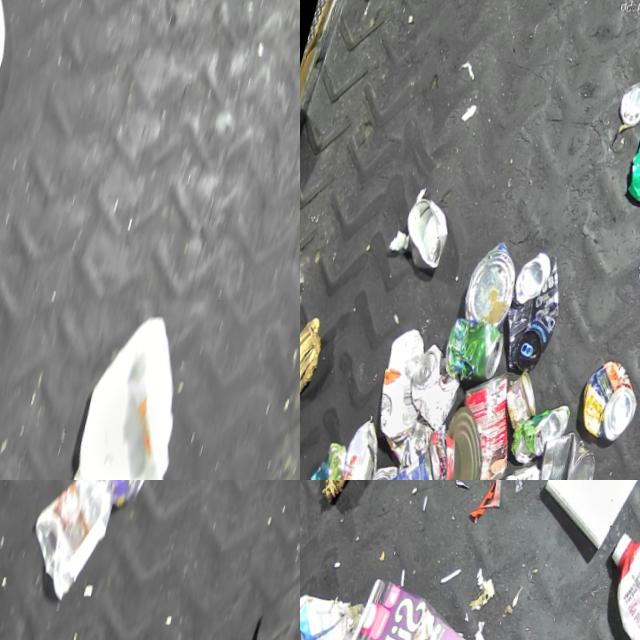can: (493, 247, 576, 377), (442, 365, 533, 480), (403, 339, 473, 433), (460, 235, 528, 328), (574, 355, 640, 446), (426, 403, 502, 480), (442, 313, 513, 387), (396, 190, 459, 270), (510, 395, 576, 471), (524, 425, 608, 480), (360, 438, 460, 480), (335, 414, 392, 480), (499, 368, 549, 433), (92, 480, 164, 512), (623, 100, 640, 209), (486, 457, 560, 480), (614, 77, 640, 129), (364, 460, 402, 480)
milk_jug: (61, 303, 210, 480)
non_white_jug: (332, 573, 491, 640), (583, 522, 640, 640)
